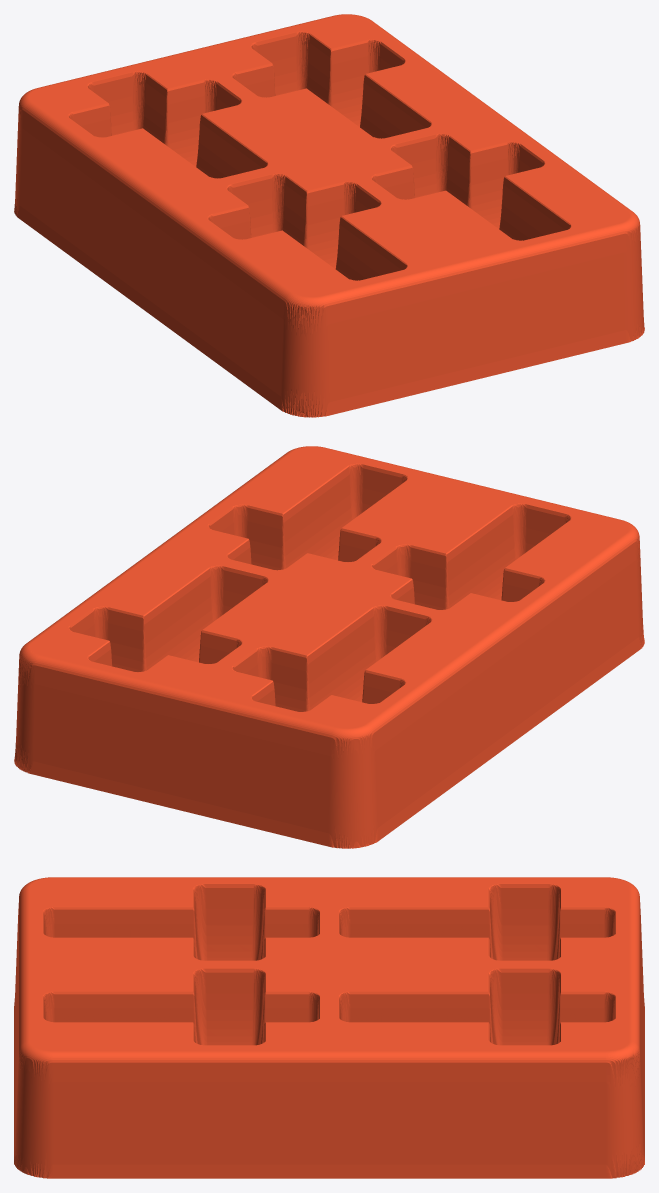
Rendered from mold.glb.
3 renders of one model, top to bottom at view 1: azimuth 30°, elevation 25°; view 2: azimuth 150°, elevation 25°; view 3: azimuth 270°, elevation 25°, orthographic. The views are drawn at different scales.
Visible parts, largest first — view 1: geometry_0; view 2: geometry_0; view 3: geometry_0.
Boxes of the visible parts, <box> form: geometry_0: <box>14,14,644,417</box>; geometry_0: <box>14,446,644,848</box>; geometry_0: <box>14,877,644,1178</box>.
Bounding box in the file's own units: 0.1023 × 0.031 × 0.1466.
